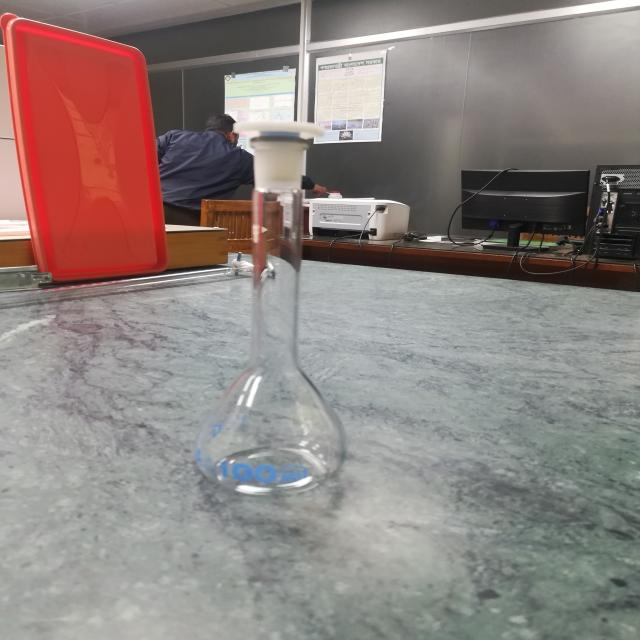Volumetric_Flask: (172, 71, 412, 544)
